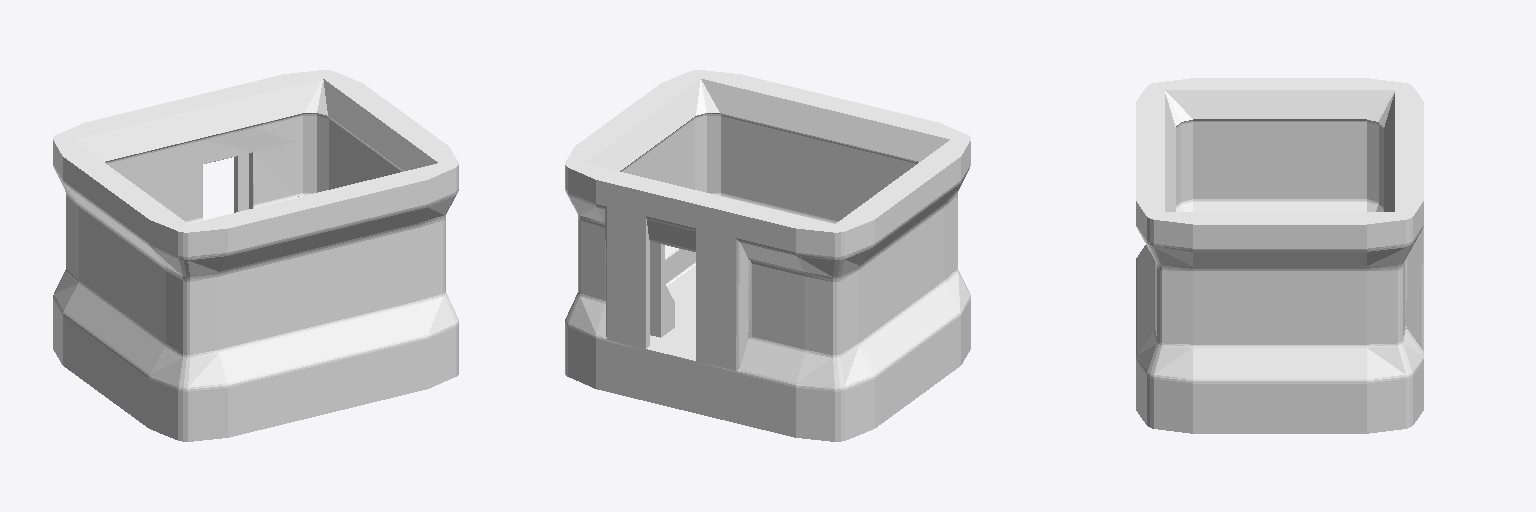
File: wall-and-floor-tile.obj
3 renders of one model, left to right at view 1: azimuth 30°, elevation 25°; view 2: azimuth 150°, elevation 25°; view 3: azimuth 270°, elevation 25°, orthographic.
Visible parts, largest first — view 1: doorFrame01_Cube.001; view 2: doorFrame01_Cube.001; view 3: doorFrame01_Cube.001.
Boxes of the visible parts, <box> form: doorFrame01_Cube.001: <box>53,70,458,441</box>; doorFrame01_Cube.001: <box>565,70,970,441</box>; doorFrame01_Cube.001: <box>1136,78,1423,433</box>.
Size of the model in its own units: 6 by 4 by 5.